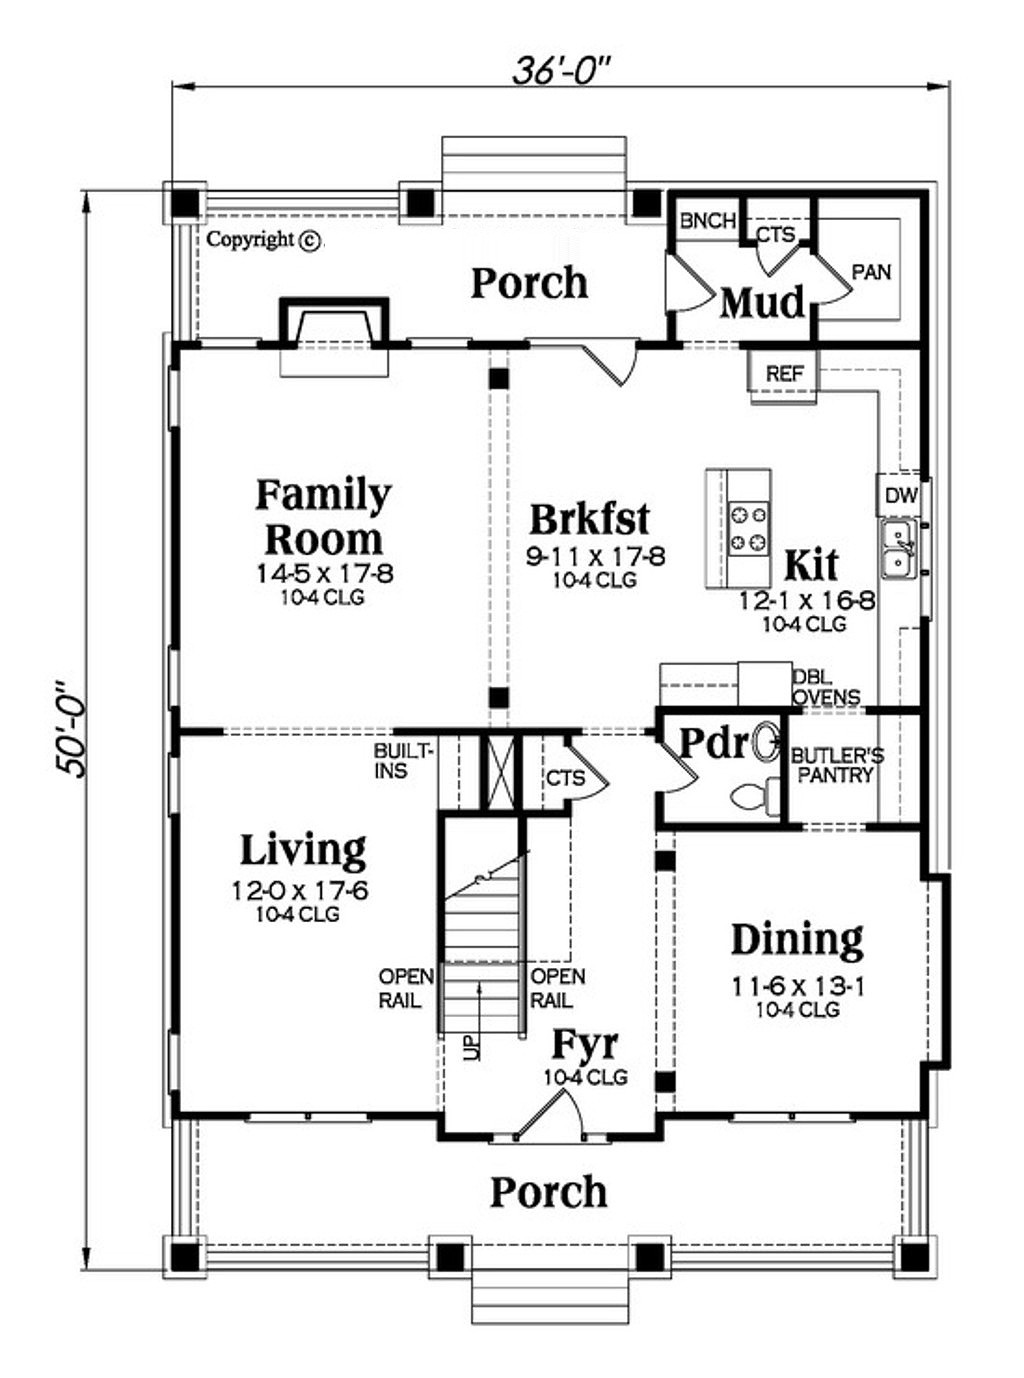door: (577, 319, 648, 392), (512, 1085, 597, 1145), (662, 245, 723, 309), (553, 745, 612, 798), (808, 248, 861, 306), (655, 743, 701, 802), (755, 236, 799, 281)
kitchen_bar: (687, 460, 780, 607)
large_sink: (708, 770, 806, 830)
small_sink: (750, 715, 795, 766)
stairs: (435, 802, 531, 1043)
twin_sink: (876, 509, 914, 583)
window: (735, 1102, 853, 1132), (244, 1105, 374, 1130), (155, 645, 180, 718), (163, 747, 189, 811), (161, 360, 180, 432)
